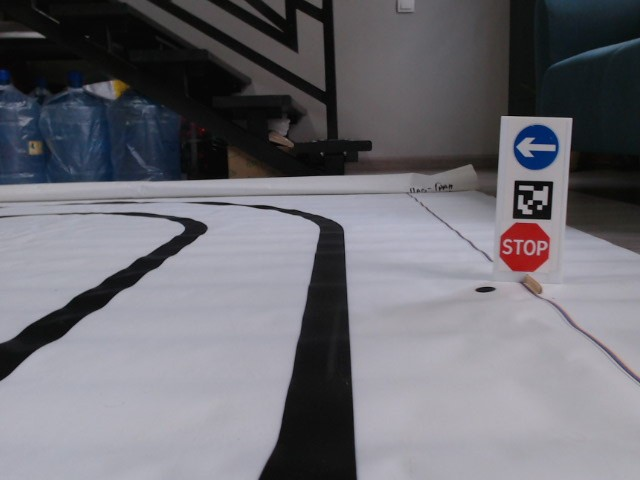Stop: (498, 221, 552, 274)
